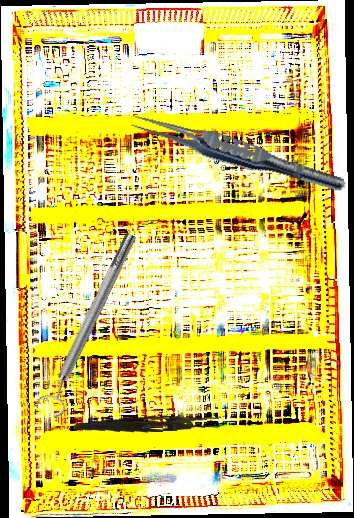Dressing Forceps: (74, 411, 222, 438)
Fixation Ring: (31, 228, 148, 420)
Tissue Forceps: (124, 107, 350, 198)
